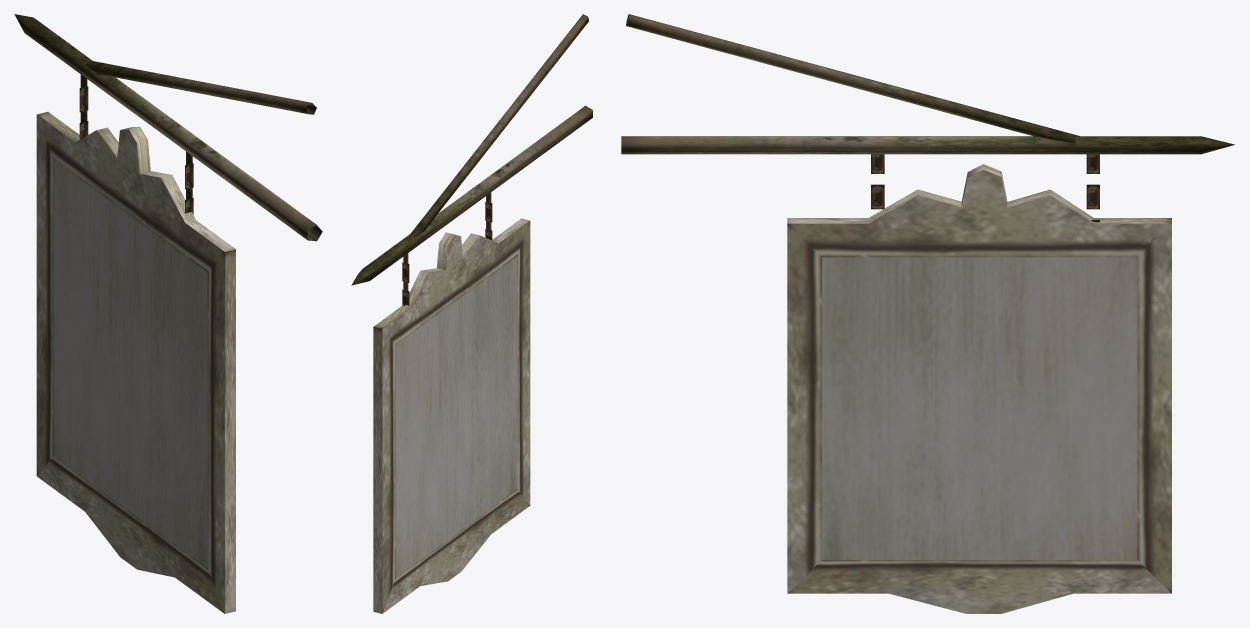
File: sign1_spanish_c_frame.fbx
3 views of the same model, side by side, from view 1: azimuth 30°, elevation 25°; view 2: azimuth 150°, elevation 25°; view 3: azimuth 270°, elevation 25° (orthographic). The views are drawn at different scales.
Visible parts, largest first — view 1: sign, support_horizontal, support_diagonal; view 2: sign, support_horizontal, support_diagonal; view 3: sign, support_horizontal, support_diagonal.
Part boxes in pixels (x1,y1,x2,y2): sign: (36, 112, 235, 613); support_horizontal: (14, 14, 322, 241); support_diagonal: (85, 60, 316, 114); sign: (373, 218, 530, 613); support_horizontal: (351, 105, 592, 285); support_diagonal: (409, 14, 588, 238); sign: (787, 164, 1171, 613); support_horizontal: (621, 136, 1234, 154); support_diagonal: (626, 14, 1081, 143).
Size of the model in its own units: 20.97 by 695 by 646.
2 materials, 2 textured.
